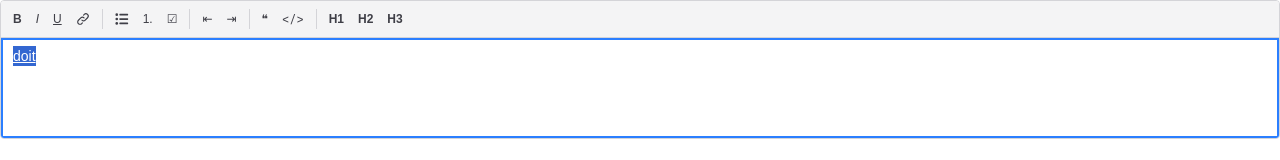
Test case: links › prefills the dialog with an existing link's URL
This screenshot has width=1280, height=160.
Click the button titled "Link (⌘K)".
click(83, 19)  # box 70,6 -> 96,32
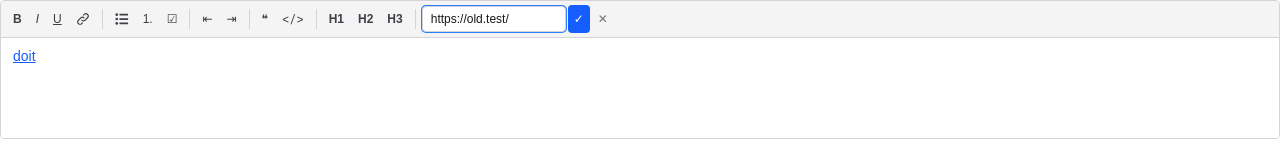
Expected: the field with placeholder "https://..." holds "https://old.test/", 422,6 -> 566,32
